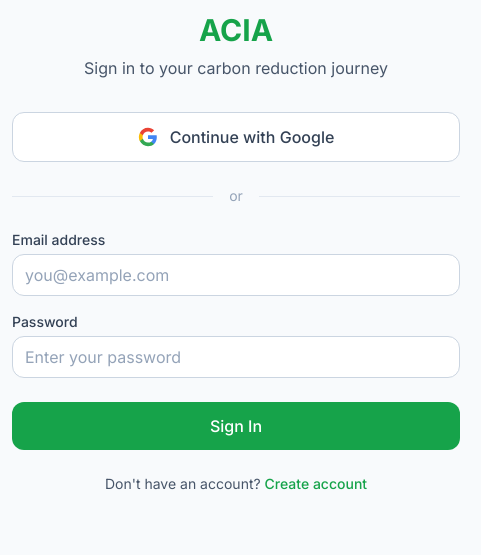
Test case: LoginForm › email error disappears after user types valid email
The width and height of the screenshot is (481, 555).
// Trigger email validation error
Click the button "Sign In": (236, 426) [12,402,460,450]
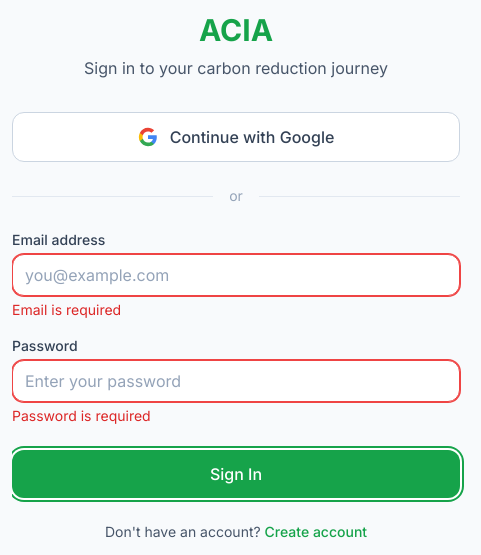
Check: the text "Email is required" is shown, box [12,301,121,318]
// Type a valid email — the email error should disappear
In the field labelled "Email address": (236, 275) [12,254,460,296], type "valid@example.com"
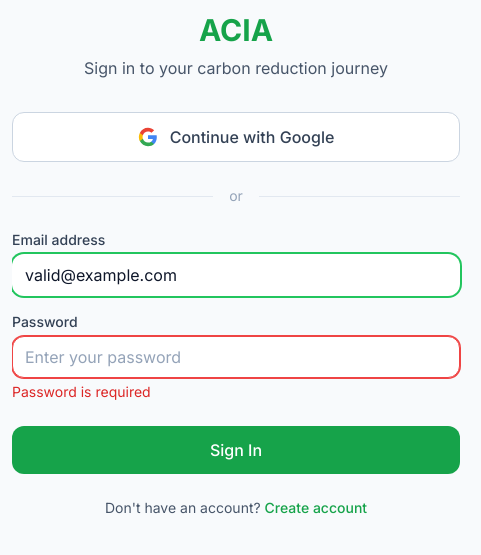
Check: the text "Email is required" is gone
